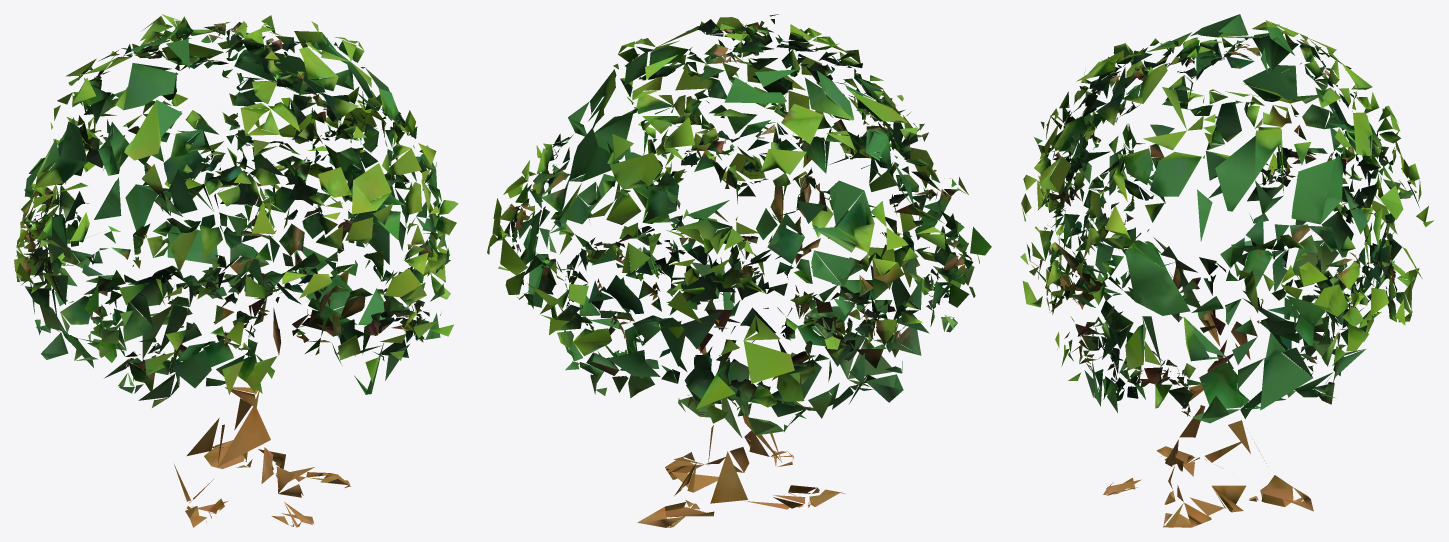
Rendered from oak.glb.
3 renders of one model, left to right at view 1: azimuth 30°, elevation 25°; view 2: azimuth 150°, elevation 25°; view 3: azimuth 270°, elevation 25°, orthographic. The views are drawn at different scales.
Visible parts, largest first — view 1: Mesh_0; view 2: Mesh_0; view 3: Mesh_0.
Boxes of the visible parts, bbox=[...] form: Mesh_0: bbox=[14, 14, 458, 527]; Mesh_0: bbox=[487, 14, 991, 527]; Mesh_0: bbox=[1020, 14, 1434, 527].
Size of the model in its own units: 8.15 by 9.08 by 7.47.
Materials: 1 (1 with a texture image).
